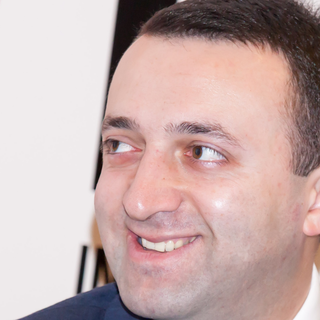eye: (100, 132, 143, 161), (181, 140, 229, 165)
